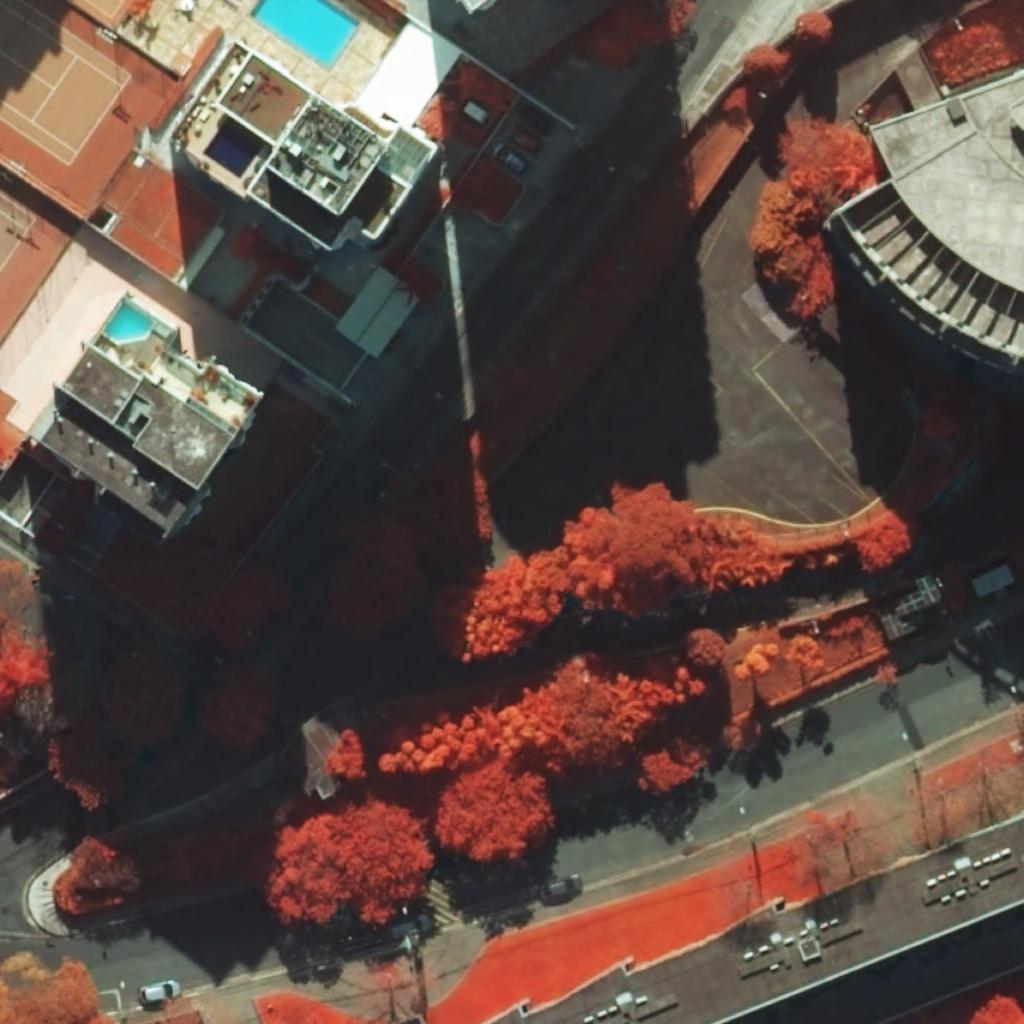pool: (249, 0, 359, 68), (203, 117, 264, 178), (104, 303, 154, 341)
